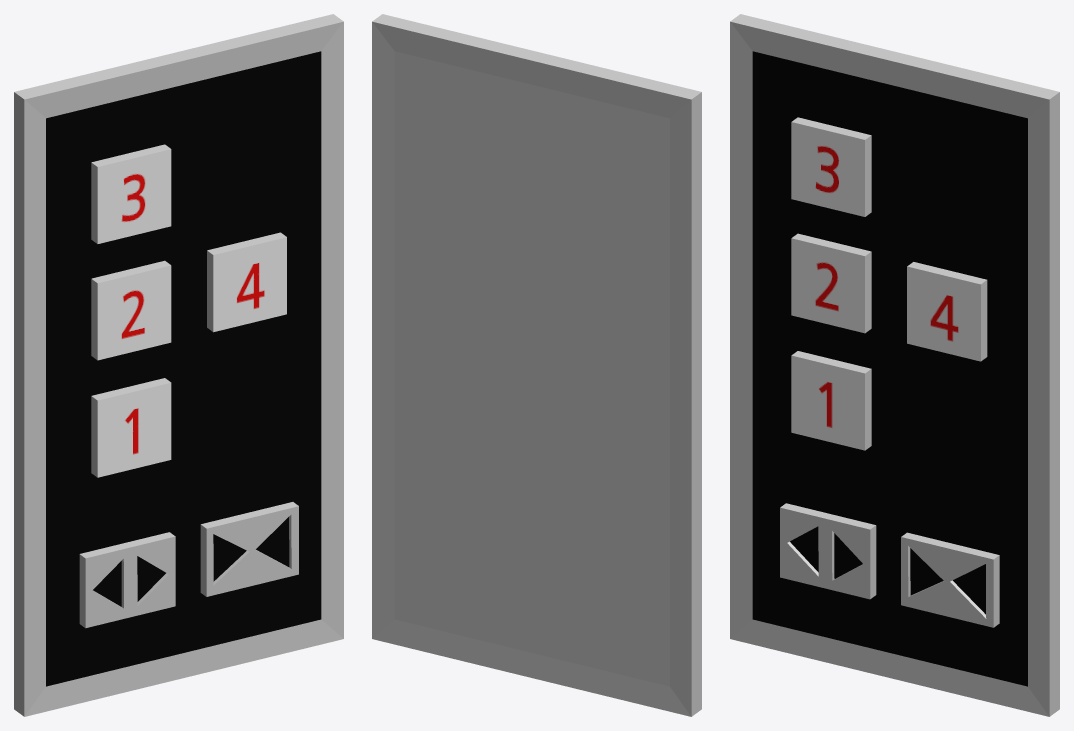
File: Button_Elevator.fbx
The picture shows the model from 3 angles, left to right: view 1: azimuth 30°, elevation 25°; view 2: azimuth 150°, elevation 25°; view 3: azimuth 330°, elevation 25°; orthographic projection.
Parts seen in each view (by area): view 1: polySurface4; view 2: polySurface4; view 3: polySurface4.
Part boxes in pixels (x1=…): polySurface4: x1=14, y1=14, x2=343, y2=716; polySurface4: x1=372, y1=14, x2=701, y2=716; polySurface4: x1=730, y1=14, x2=1059, y2=716.
Size of the model in its own units: 0.7383 by 1.36 by 0.0655.
4 materials, 1 textured.
